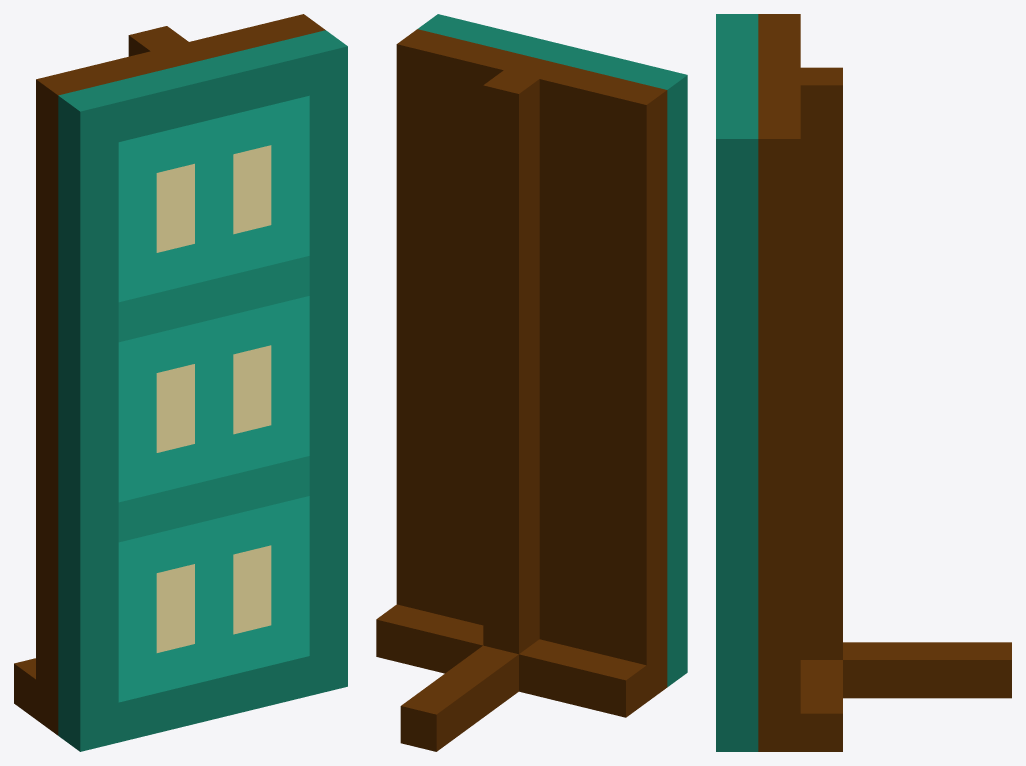
The model's file is Building1-3.obj.
The picture shows the model from 3 angles, left to right: view 1: azimuth 30°, elevation 25°; view 2: azimuth 150°, elevation 25°; view 3: azimuth 270°, elevation 25°; orthographic projection. The views are drawn at different scales.
Size of the model in its own units: 0.7 by 1.6 by 0.7.
Materials: 1 (1 with a texture image).
